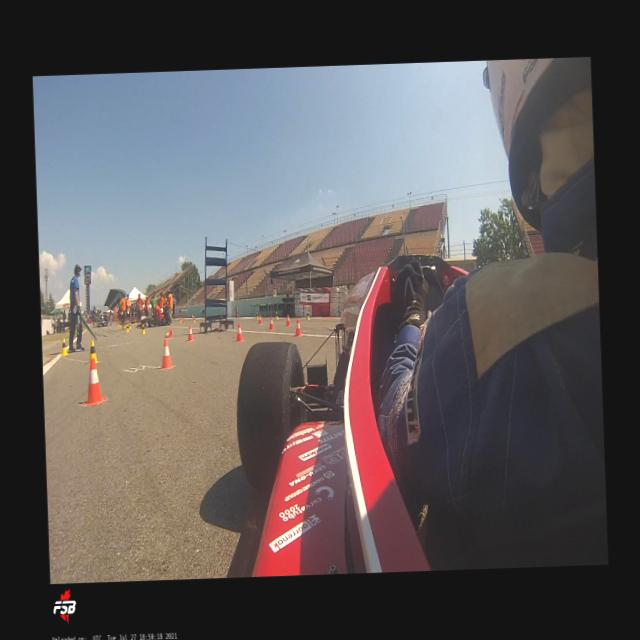orange_cone: (80, 357, 107, 406), (158, 337, 174, 370), (234, 322, 243, 342), (293, 318, 301, 336), (187, 324, 194, 341), (164, 328, 173, 338), (268, 316, 274, 329), (286, 313, 290, 326), (258, 312, 262, 324), (182, 317, 186, 322)
yellow_cone: (87, 339, 99, 364), (60, 338, 68, 356), (140, 322, 144, 333), (274, 309, 278, 320), (306, 310, 310, 320), (125, 322, 128, 332), (256, 310, 259, 320), (178, 316, 182, 322), (128, 322, 131, 328), (192, 316, 195, 322)
